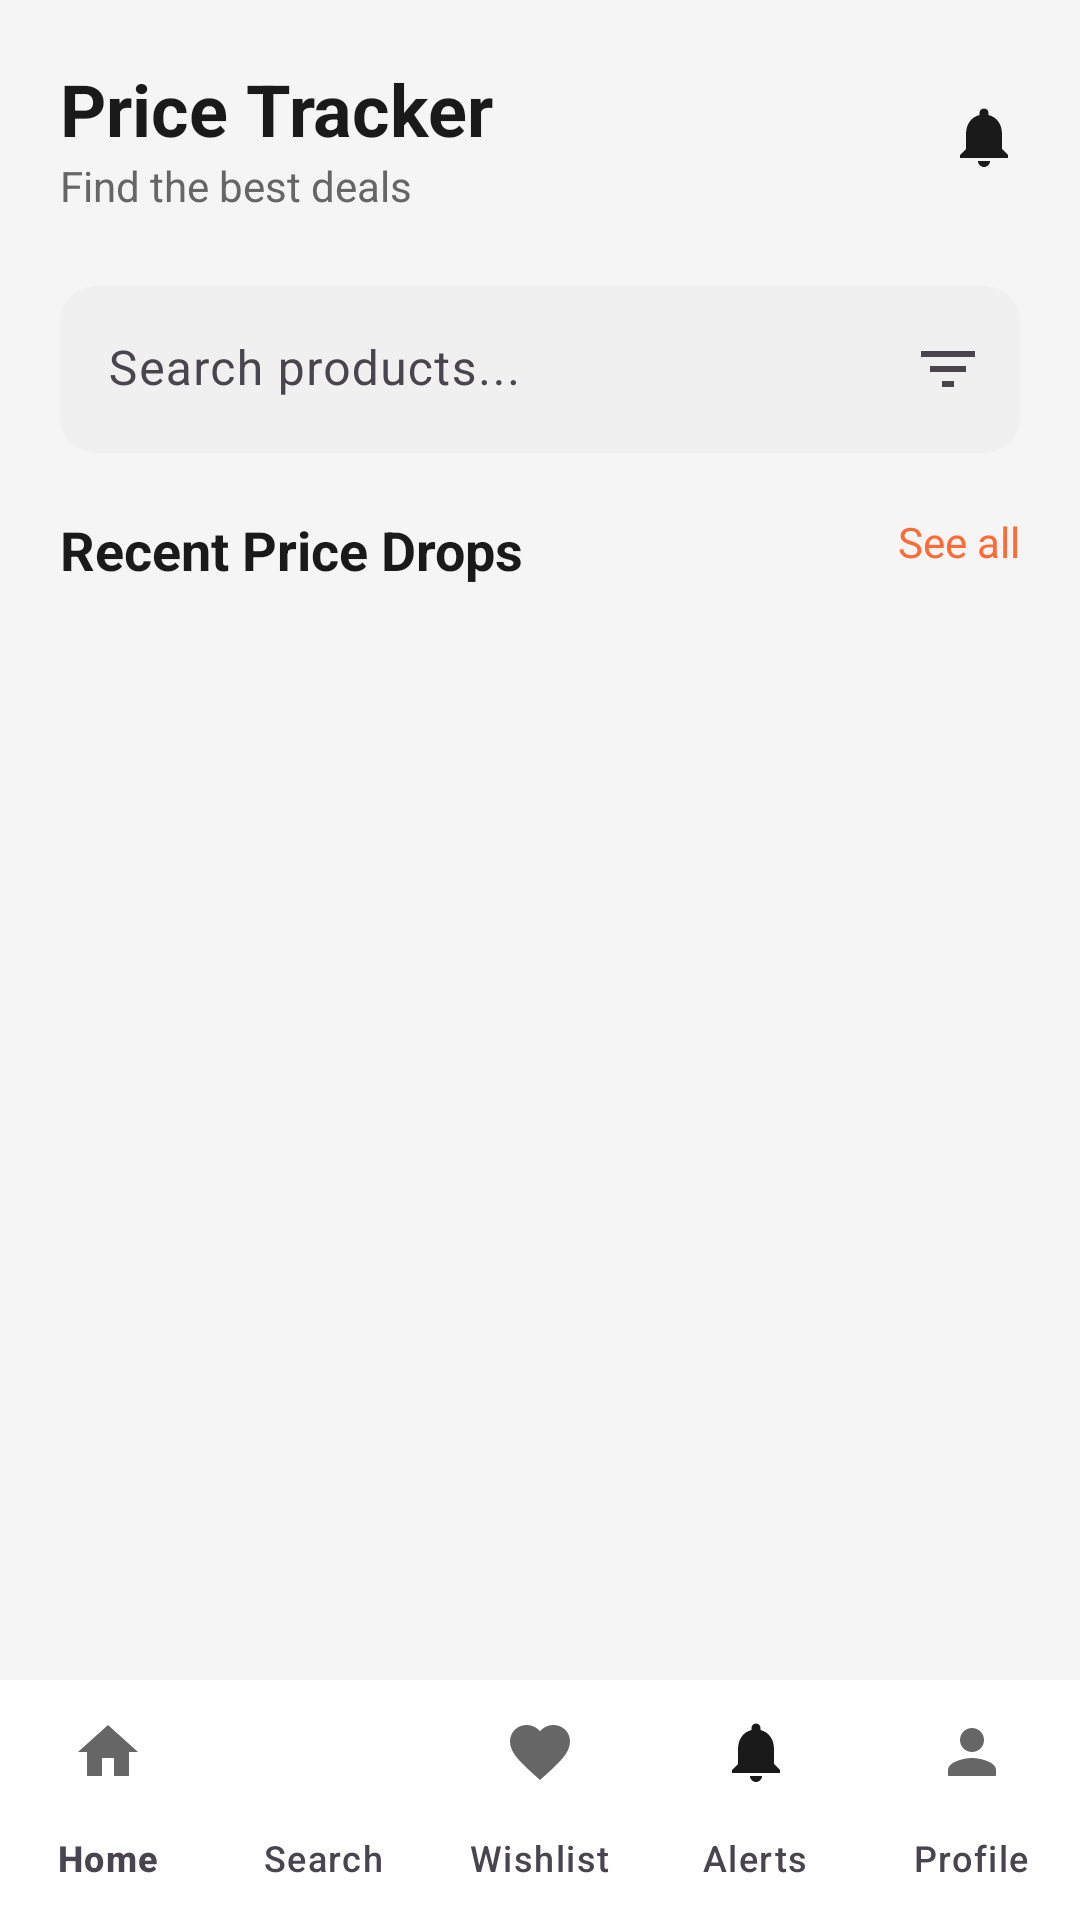

Where to tap for icons on this 1080 x 1920 app screen, as [x,y]:
Notifications: [984,137]
